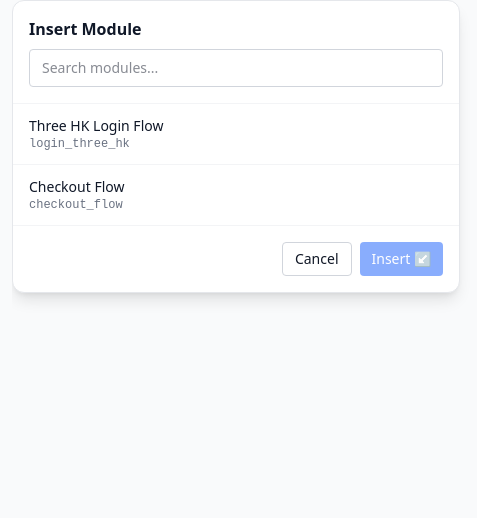
Scenario: InsertModulePicker › 4. clicking a module shows its step preview
Click the text "Three HK Login Flow".
click(96, 126)  # box [29,116,164,135]
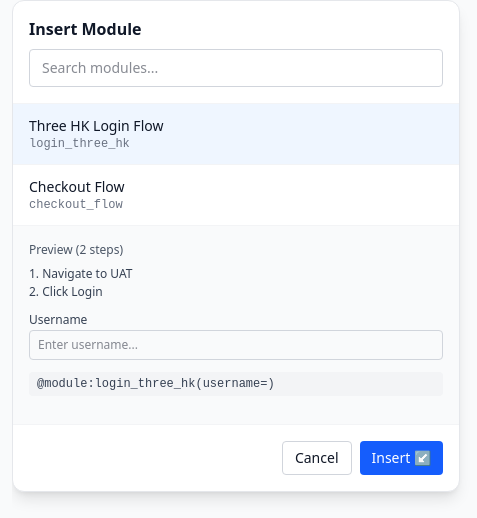
Expected: the list item "Navigate to UAT" is shown, [42,265,132,282]
